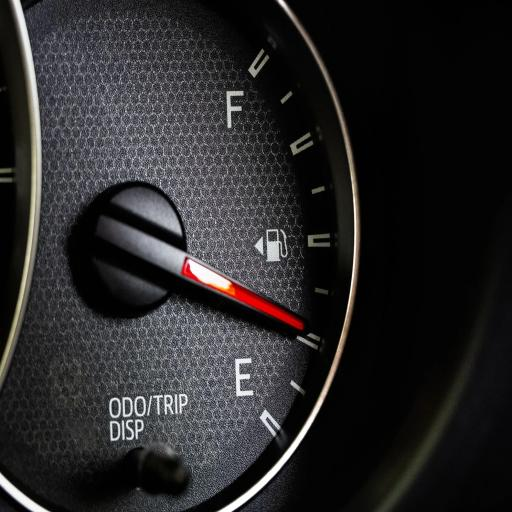empty: (228, 354, 260, 404)
fuel_icon: (264, 220, 290, 270)
full: (224, 82, 247, 132)
guage_area: (3, 0, 378, 512)
needle_center: (62, 173, 200, 331)
needle_tip: (280, 311, 306, 339)
